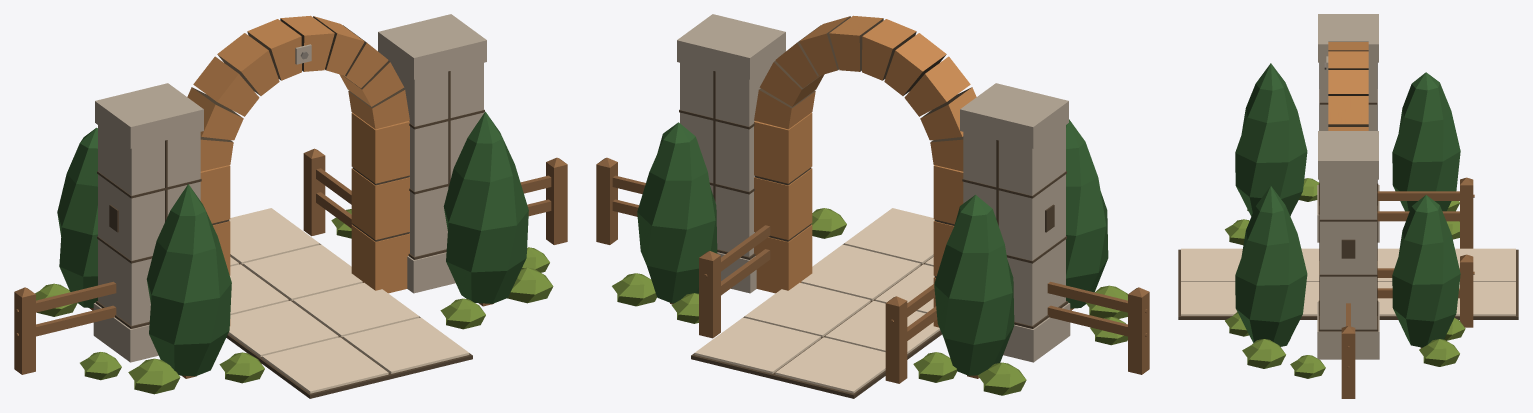
Rendered from park entrance.fbx.
3 renders of one model, left to right at view 1: azimuth 30°, elevation 25°; view 2: azimuth 150°, elevation 25°; view 3: azimuth 270°, elevation 25°, orthographic. The views are drawn at different scales.
Visible parts, largest first — view 1: Park_Entrance; view 2: Park_Entrance; view 3: Park_Entrance.
Boxes of the visible parts, x1=… form: Park_Entrance: x1=14, y1=14, x2=567, y2=398; Park_Entrance: x1=596, y1=14, x2=1149, y2=398; Park_Entrance: x1=1178, y1=14, x2=1518, y2=398.
Bounding box in the file's own units: 794 × 385 × 504.
